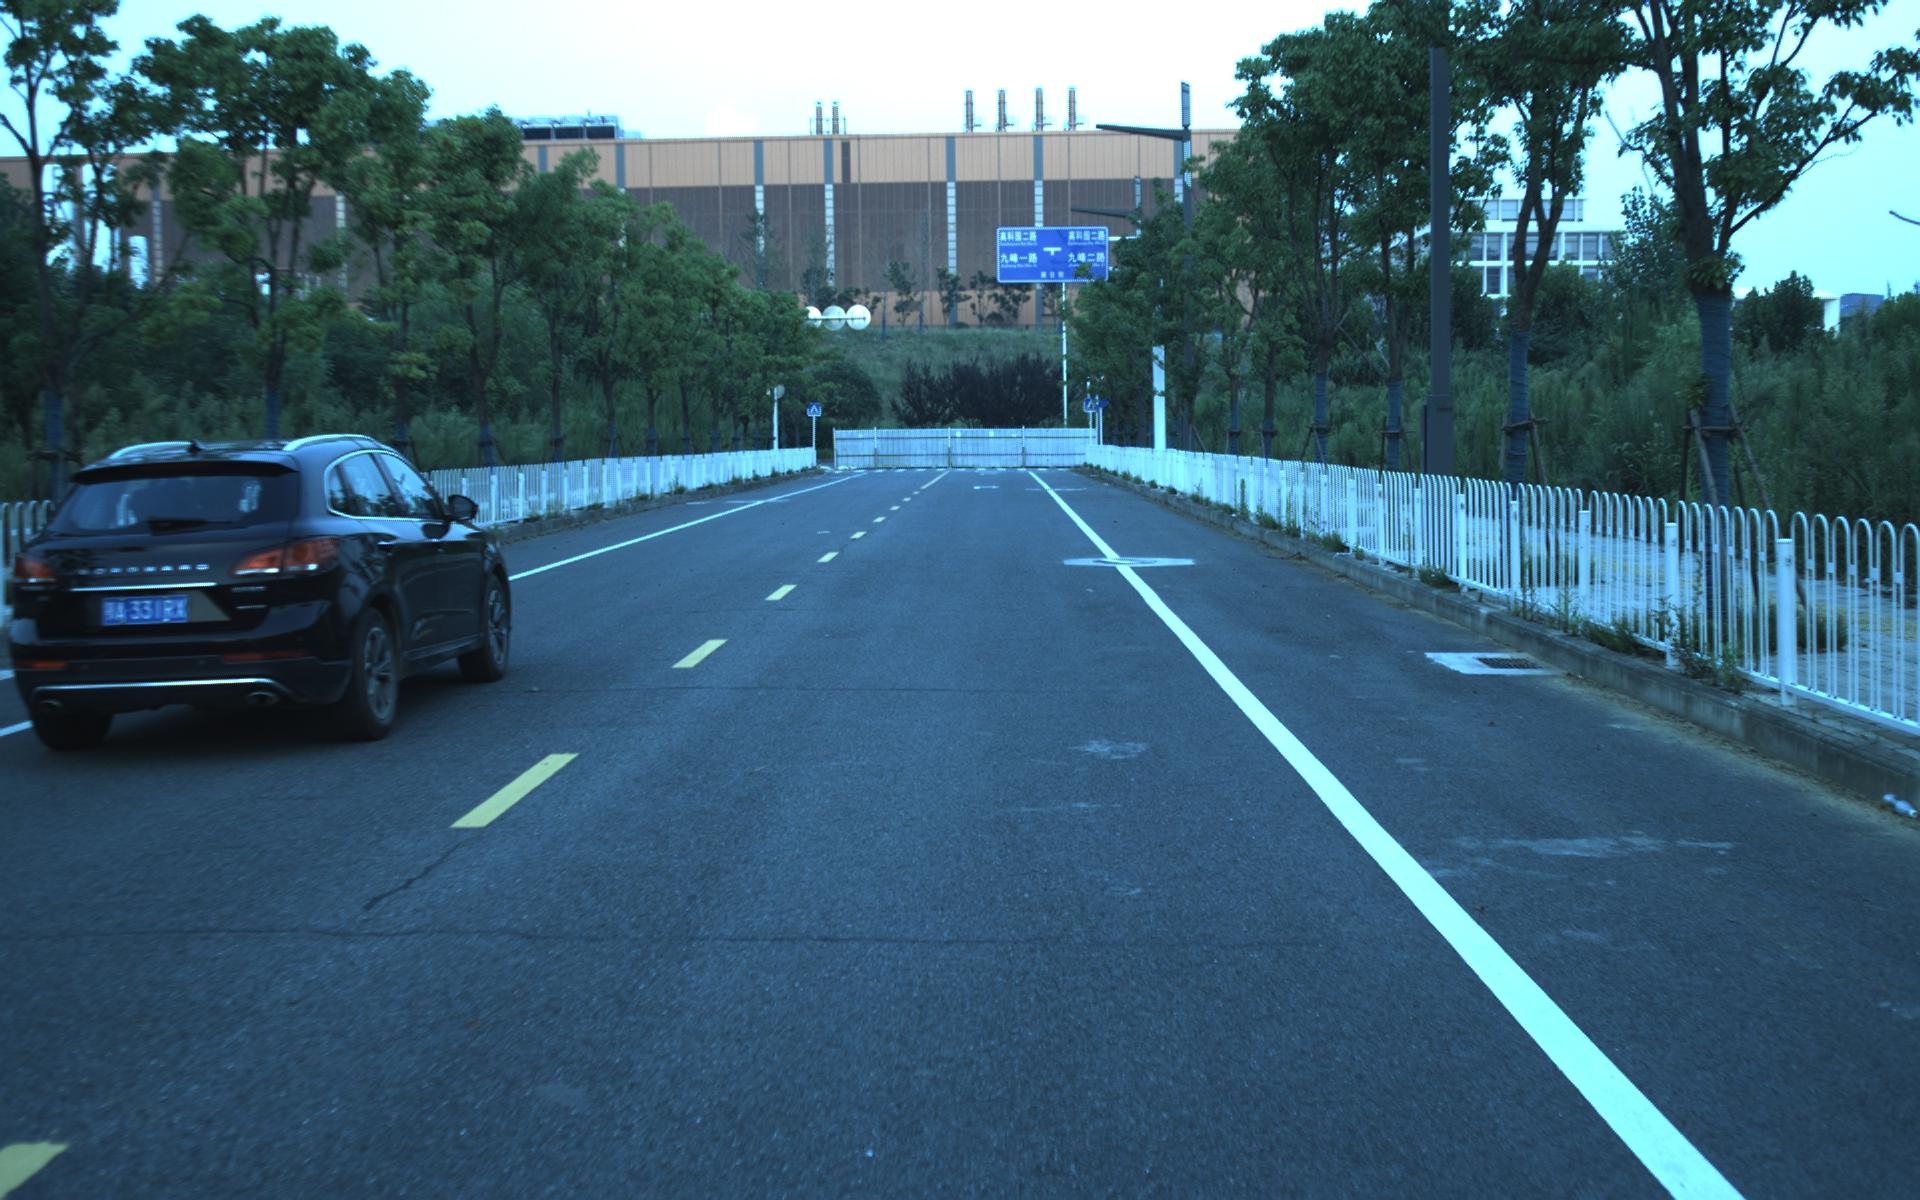Car: (0, 422, 518, 758)
